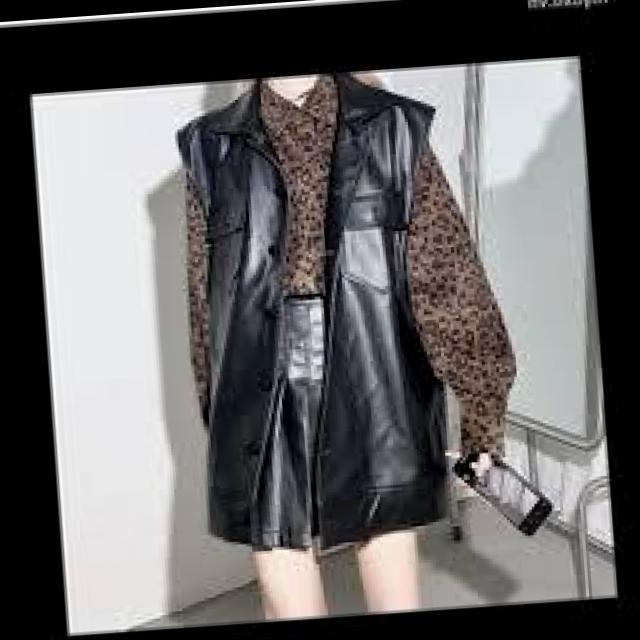sweater: (174, 76, 476, 557)
